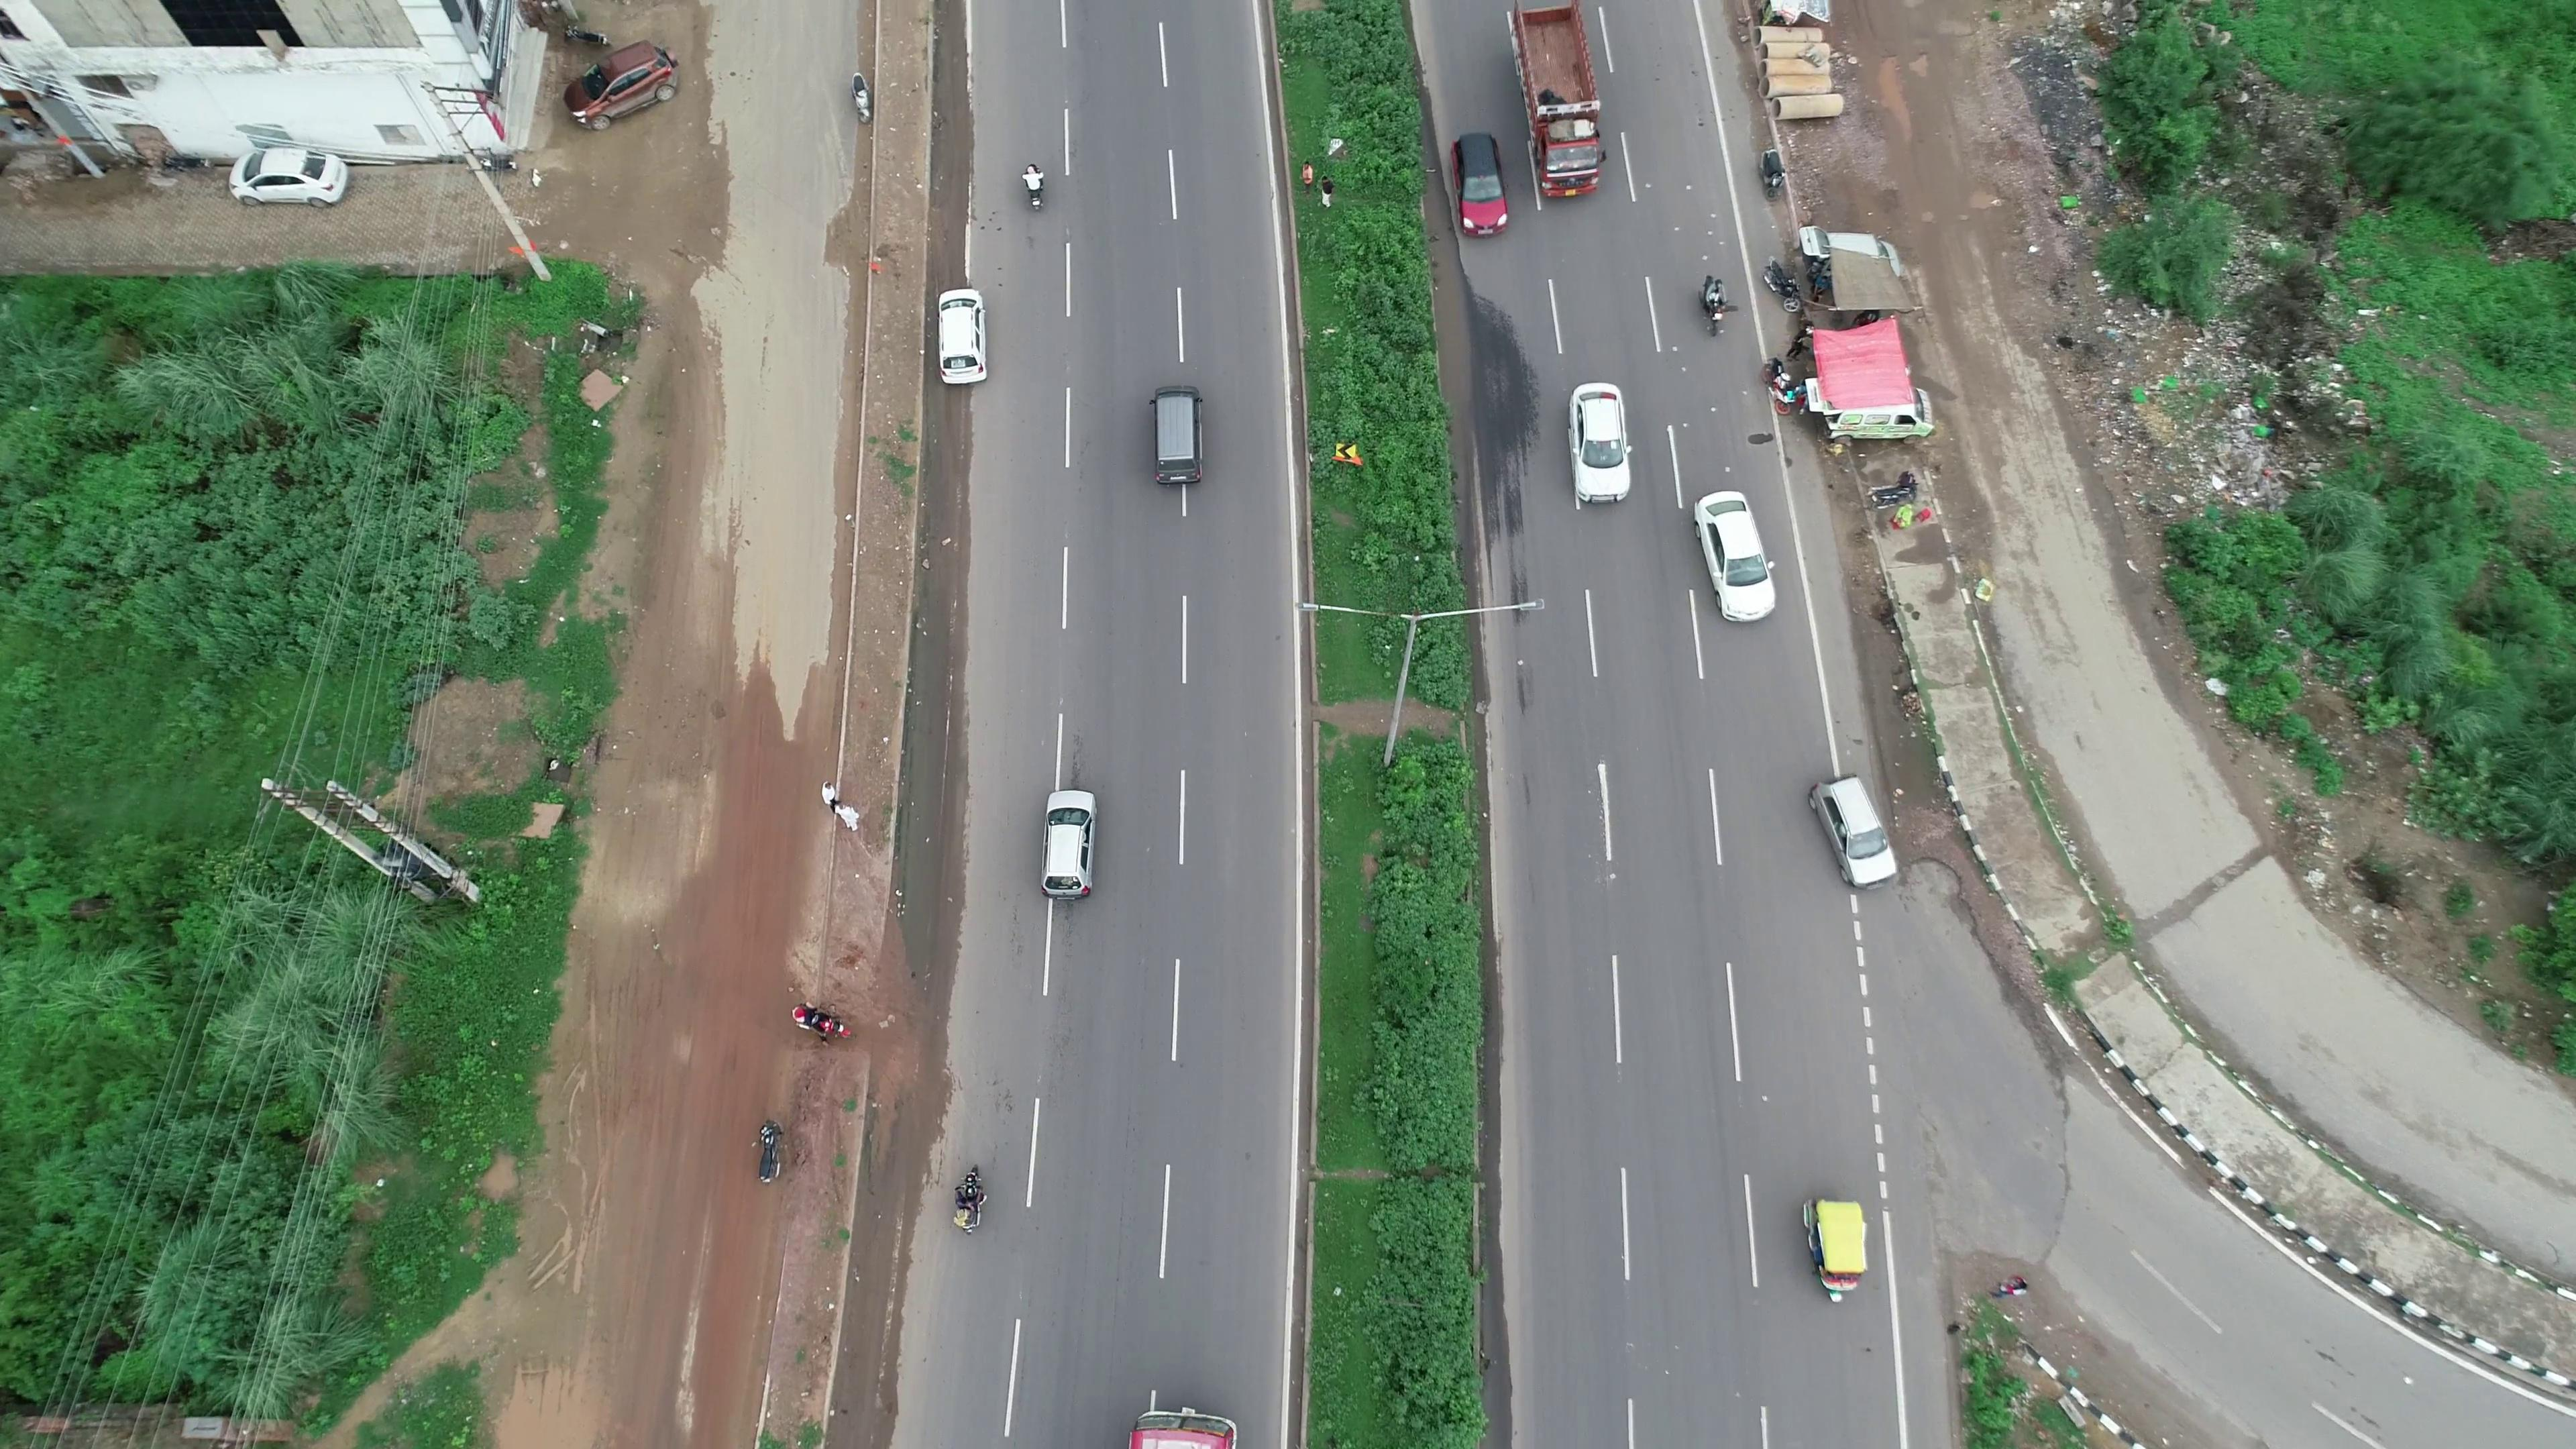Muddy_road: (547, 816, 800, 1330)
